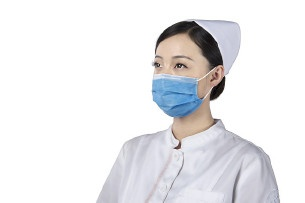Mask: (148, 53, 212, 116)
